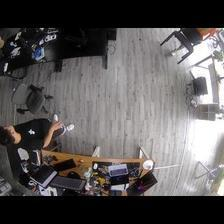normal: (2, 111, 78, 148)
